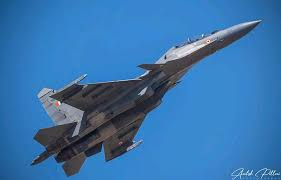maybay_muctieu: (38, 20, 267, 171)
